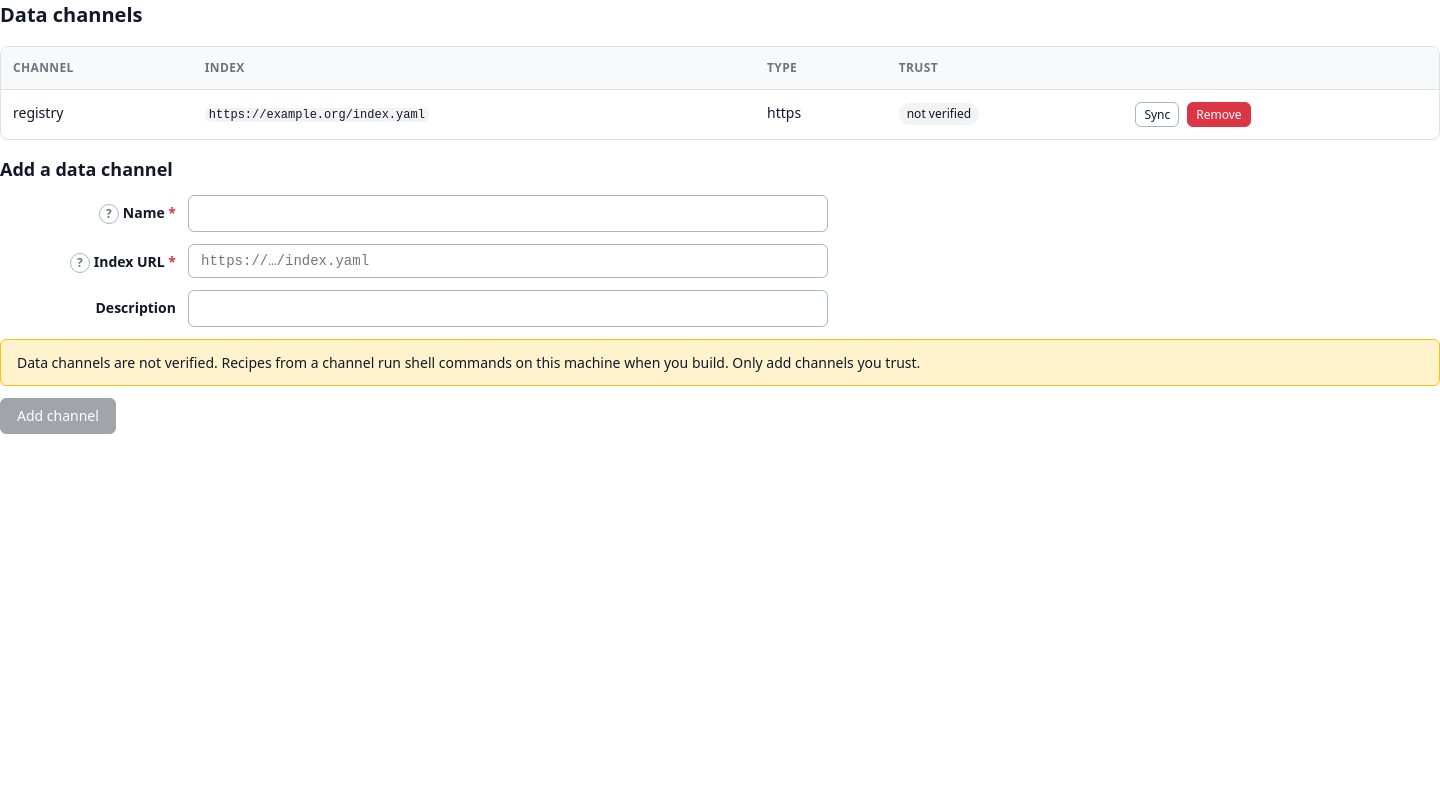
Test case: DataChannelPanel › removes a channel after confirming
The width and height of the screenshot is (1440, 810).
Later steps or results of the test are not shown.
What coordinates should you click on to do the following:
click the button "Remove"
I would click on:
 (1219, 114)
Its box is [1187,102,1251,127].
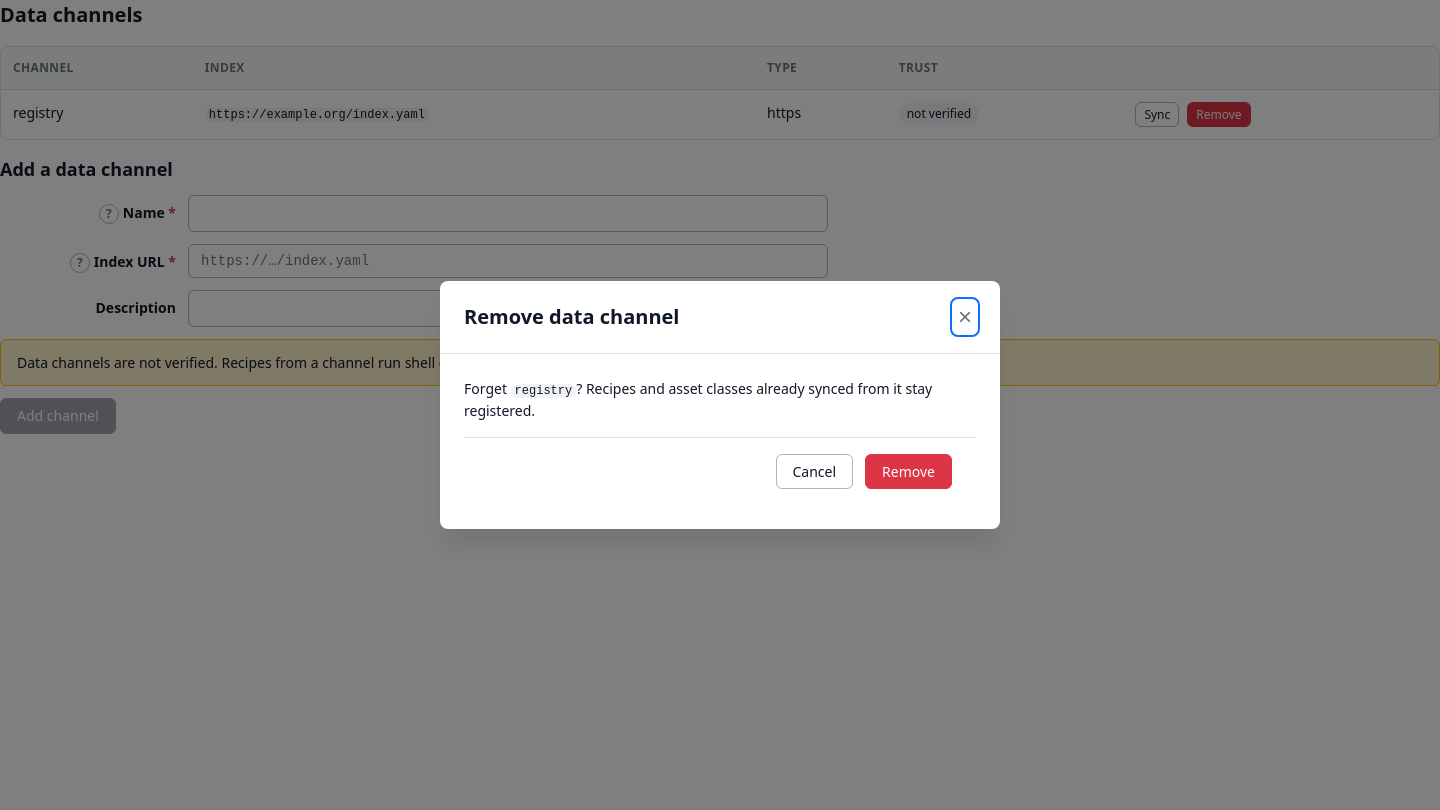
Expected: the heading "Remove data channel" is shown, [464,302,680,332]
